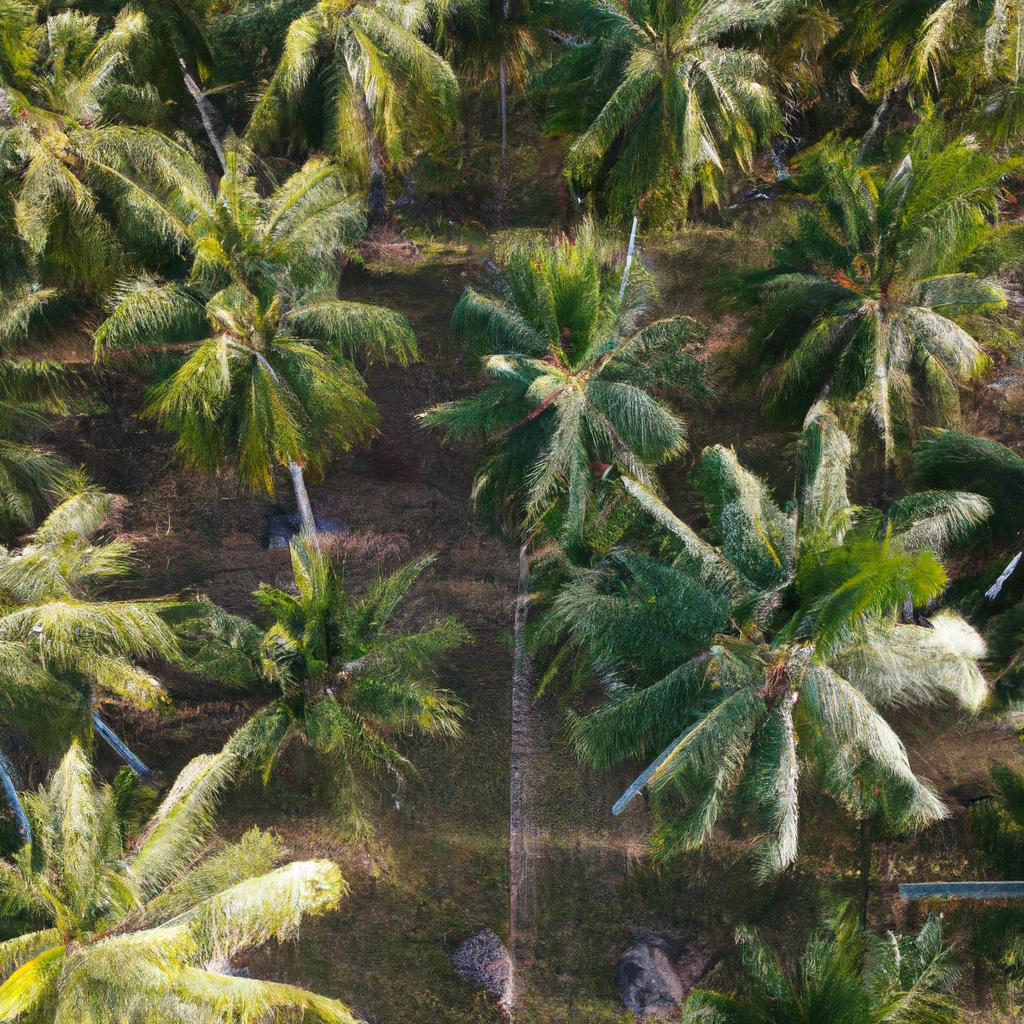coconut_tree: (535, 443, 1011, 889), (81, 143, 438, 472), (438, 218, 714, 550), (743, 112, 1012, 447), (185, 524, 492, 799)
